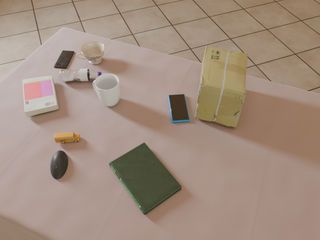book: (109, 142, 182, 215), (23, 76, 58, 117)
bottle: (59, 69, 101, 82)
box: (195, 46, 247, 127)
cup: (93, 74, 121, 106), (76, 42, 105, 64)
mouse: (51, 151, 68, 179)
phone: (168, 94, 190, 122), (54, 51, 74, 68)
toy_car: (54, 132, 80, 143)
